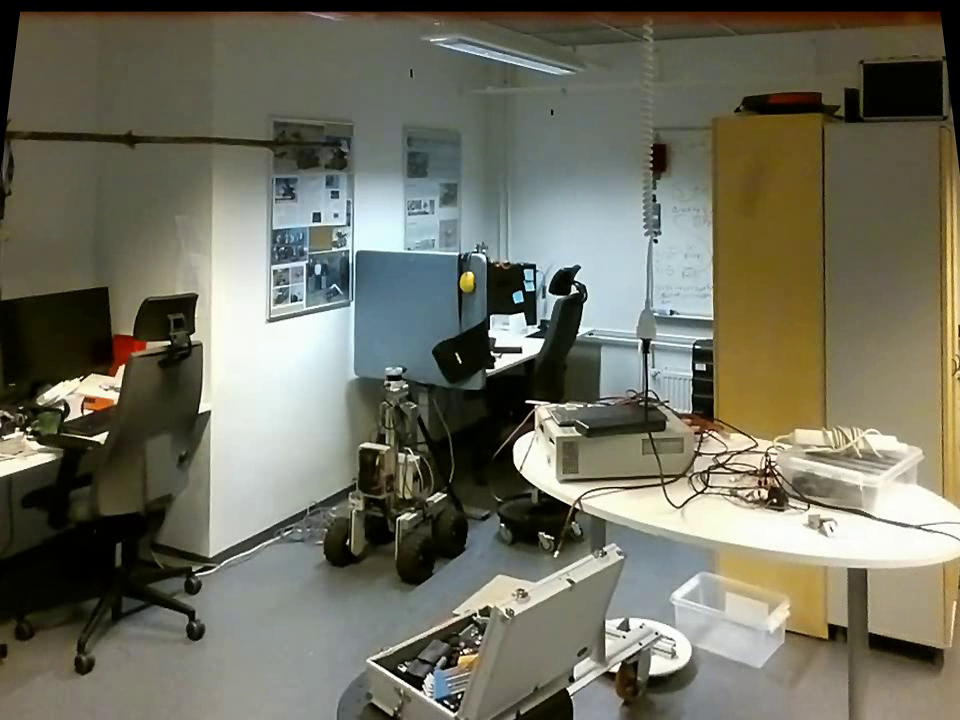aluminum_frame: (645, 123, 659, 320), (653, 303, 712, 329), (651, 118, 712, 132)
branch: (6, 125, 330, 154)
